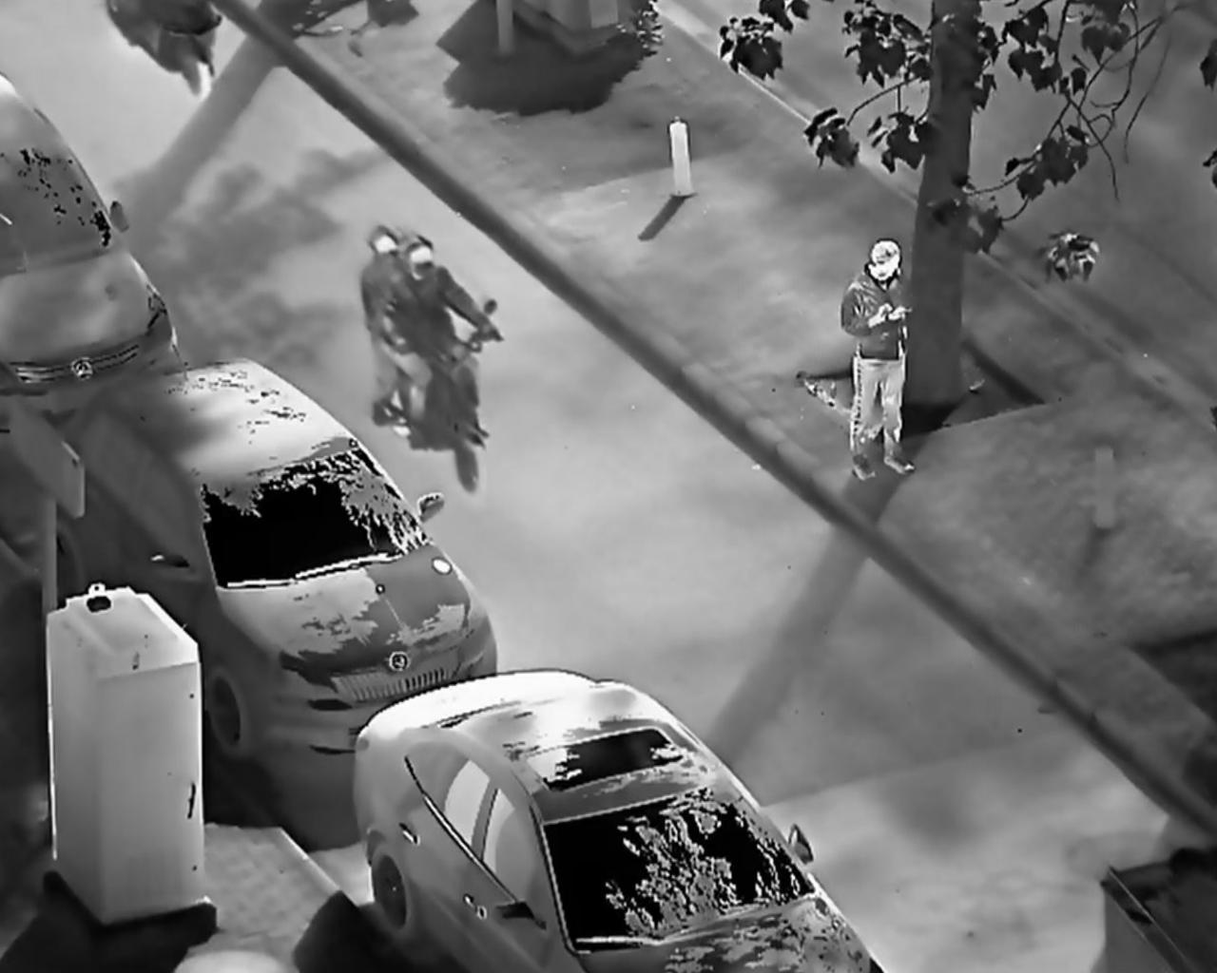person: (381, 232, 494, 436), (839, 235, 920, 485), (360, 223, 405, 427)
